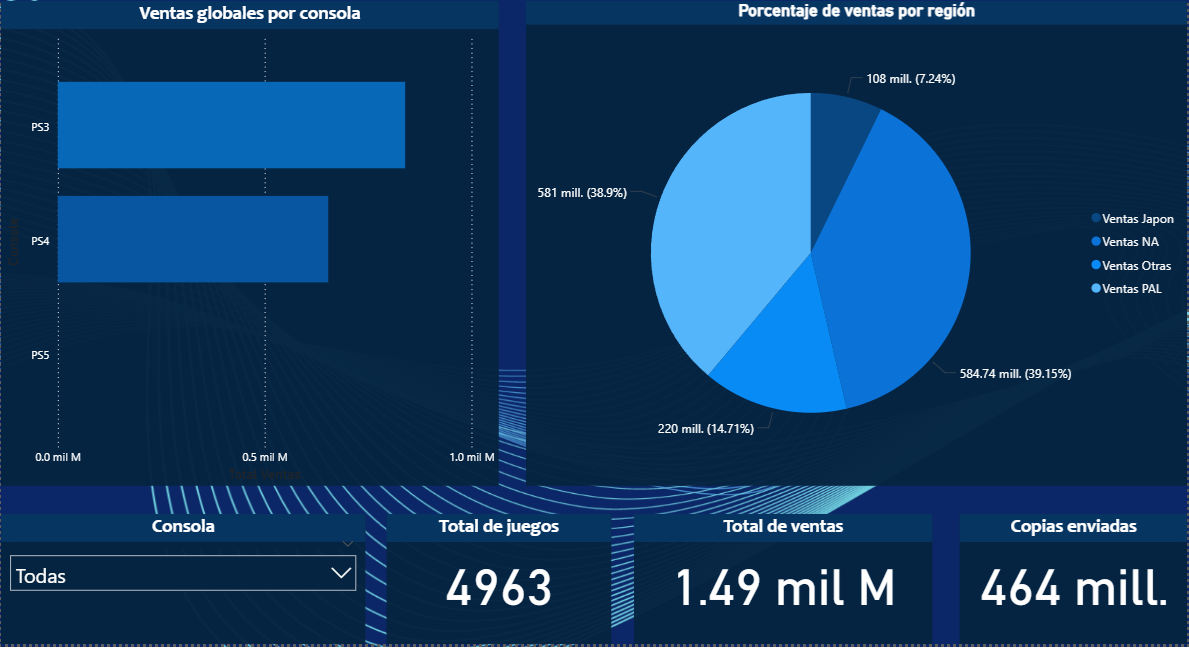

The page's visual inventory and layout, read from the dashboard file:
{"tool":"powerbi","page":{"name":"General","canvas":[1280,720],"ordinal":1},"visuals":[{"type":"clusteredBarChart","title":"Ventas globales por consola","fields":{"Category":["ps_sales_2025.Console"],"Y":["ps_sales_2025.Total Ventas"]},"box":[0,25.9,537.6,523],"z":0},{"type":"slicer","title":"Consola","fields":{"Values":["ps_sales_2025.Console"]},"box":[0,579.7,393.5,140.9],"z":1000},{"type":"pieChart","title":"Porcentaje de ventas por región","fields":{"Y":["ps_sales_2025.Ventas Japon","ps_sales_2025.Ventas NA","ps_sales_2025.Ventas Otras","ps_sales_2025.Ventas PAL"]},"box":[566.7,25.9,714.1,523],"z":2000},{"type":"card","title":"Total de juegos","fields":{"Values":["CountNonNull(ps_sales_2025.Game)"]},"box":[416.1,579.7,242.9,140.9],"z":3000},{"type":"card","title":"Total de ventas","fields":{"Values":["Sum(ps_sales_2025.Total Sales)"]},"box":[683.3,579.7,322.2,140.9],"z":4000},{"type":"card","title":"Copias enviadas","fields":{"Values":["Sum(ps_sales_2025.Total Shipped)"]},"box":[1034.7,579.7,246.1,140.9],"z":5000}]}

Visuals, with their boxes on the page's 1280x720 design canvas (x1, y1, x2, y2). These are canvas units, not pixel positions in the 1189x648 screenshot, which may show the page scaled, cropped or inside an application window:
"Ventas globales por consola" clusteredBarChart: detection(0, 26, 538, 549)
"Consola" slicer: detection(0, 580, 394, 721)
"Porcentaje de ventas por región" pieChart: detection(567, 26, 1281, 549)
"Total de juegos" card: detection(416, 580, 659, 721)
"Total de ventas" card: detection(683, 580, 1006, 721)
"Copias enviadas" card: detection(1035, 580, 1281, 721)
